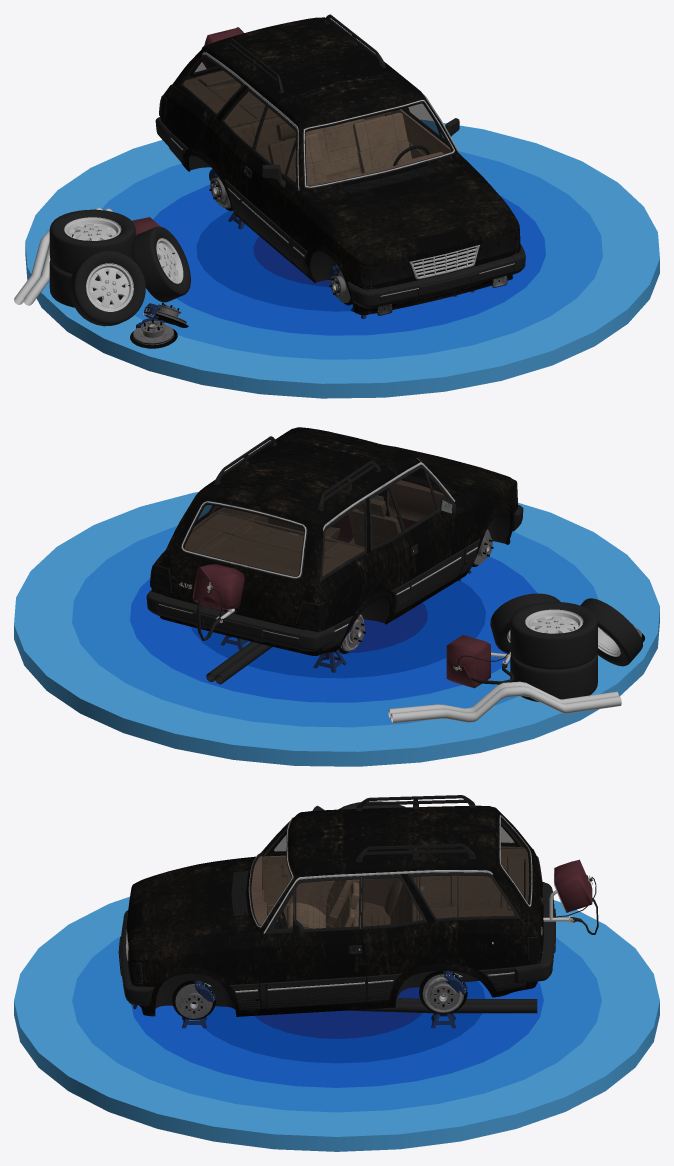
File: tcc_model-gaming.glb
3 renders of one model, top to bottom at view 1: azimuth 30°, elevation 25°; view 2: azimuth 150°, elevation 25°; view 3: azimuth 270°, elevation 25°, orthographic.
Visible parts, largest first — view 1: base.001, carro_antigo, recompensa_fundamento, freios_antigo, recompensa_freio; view 2: base.001, carro_antigo, recompensa_fundamento, recompensa_freio, freios_antigo, jacks; view 3: base.001, carro_antigo, recompensa_fundamento, recompensa_freio, freios_antigo.
Boxes of the visible parts, bbox=[...] form: base.001: bbox=[14, 120, 659, 398]; carro_antigo: bbox=[159, 17, 525, 315]; recompensa_fundamento: bbox=[155, 14, 525, 315]; freios_antigo: bbox=[130, 176, 351, 348]; recompensa_freio: bbox=[202, 27, 352, 305]; base.001: bbox=[14, 492, 659, 766]; carro_antigo: bbox=[150, 427, 523, 655]; recompensa_fundamento: bbox=[146, 436, 522, 651]; recompensa_freio: bbox=[192, 529, 493, 653]; freios_antigo: bbox=[340, 537, 644, 688]; jacks: bbox=[220, 570, 471, 672]; base.001: bbox=[14, 801, 659, 1151]; carro_antigo: bbox=[118, 805, 544, 1016]; recompensa_fundamento: bbox=[118, 795, 555, 1009]; recompensa_freio: bbox=[172, 859, 598, 1019]; freios_antigo: bbox=[172, 973, 462, 1020].
Size of the model in its own units: 4.21 by 1.34 by 4.
21 materials, 16 textured.
